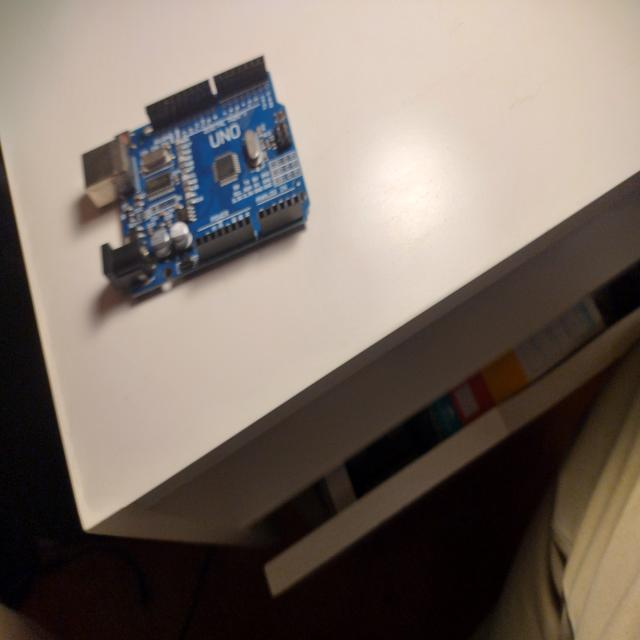arduino: (70, 53, 328, 310)
